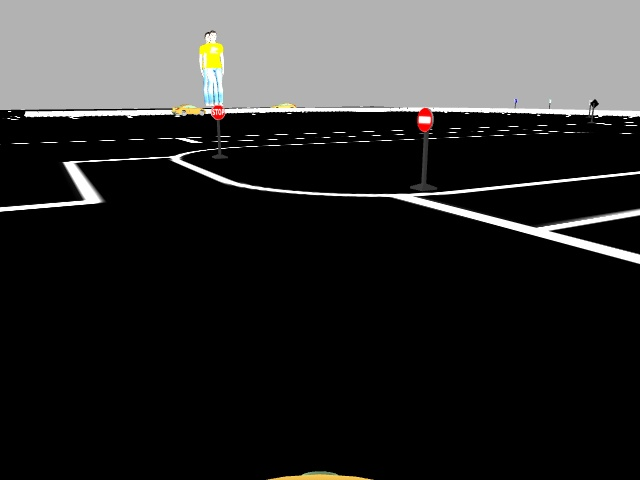NoEntry: (414, 107, 434, 133)
Stop: (209, 104, 225, 120)
